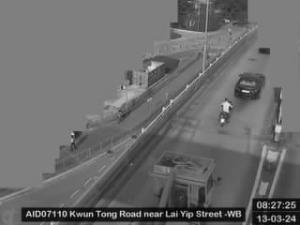motorbike: (218, 98, 234, 126)
person: (70, 133, 76, 151)
truck: (150, 150, 220, 225)
vehicle: (235, 72, 266, 100)
